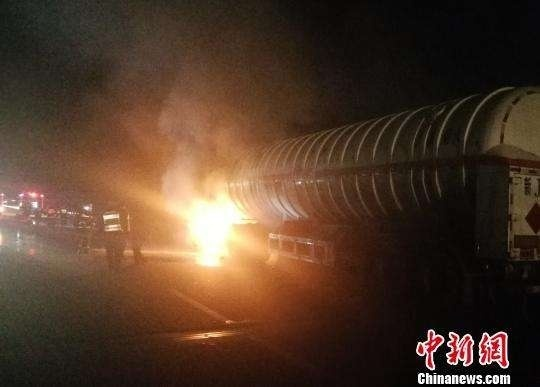fire: (186, 188, 247, 266)
